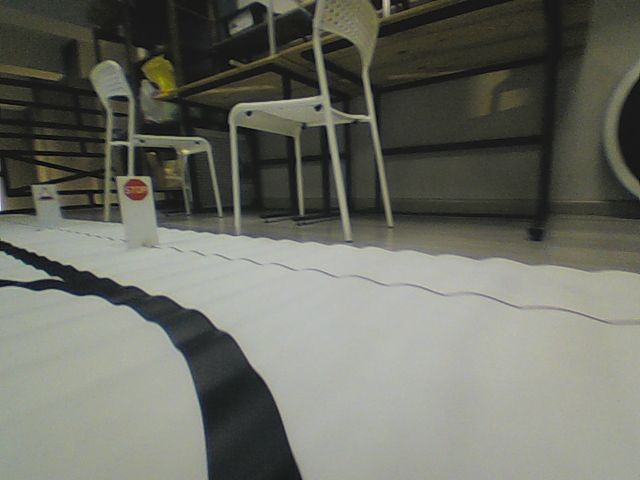Stop: (123, 178, 149, 202)
